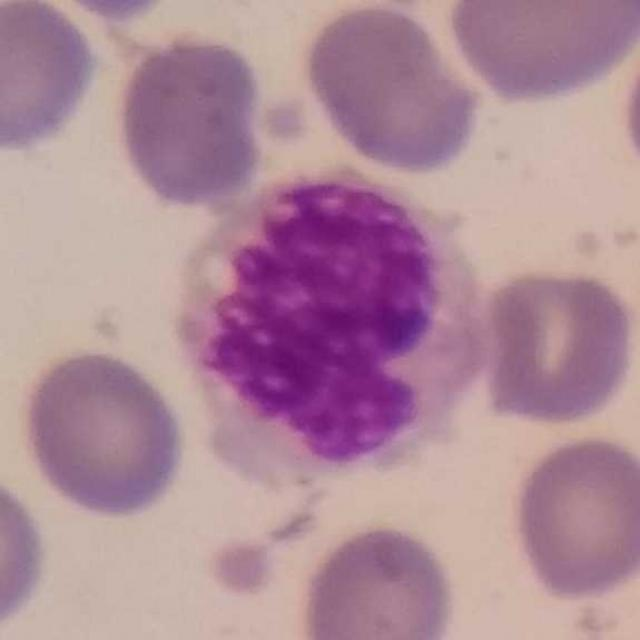Monocyte: (162, 171, 496, 491)
Platelets: (208, 538, 276, 600)
RBC: (296, 1, 490, 178), (11, 343, 192, 523), (108, 28, 273, 211), (474, 262, 639, 430), (503, 431, 640, 603), (443, 0, 640, 108), (291, 517, 463, 640), (0, 0, 105, 158), (0, 465, 55, 638), (615, 9, 640, 198), (35, 0, 182, 23)
